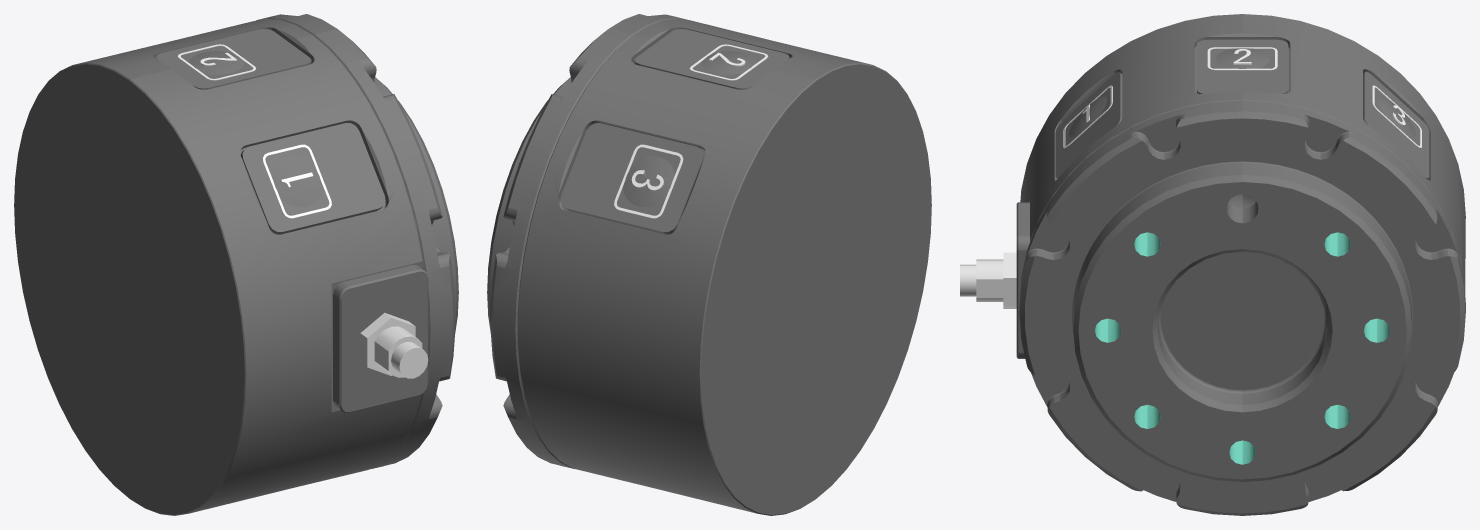
The picture shows the model from 3 angles, left to right: view 1: azimuth 30°, elevation 25°; view 2: azimuth 150°, elevation 25°; view 3: azimuth 270°, elevation 25°; orthographic projection. The views are drawn at different scales.
Visible parts, largest first — view 1: Mesh_0; view 2: Mesh_0; view 3: Mesh_0.
Part boxes in pixels (<box>): Mesh_0: <box>14,14,458,515</box>; Mesh_0: <box>487,14,931,515</box>; Mesh_0: <box>960,14,1465,515</box>.
Size of the model in its own units: 0.0505 by 0.094 by 0.083.
